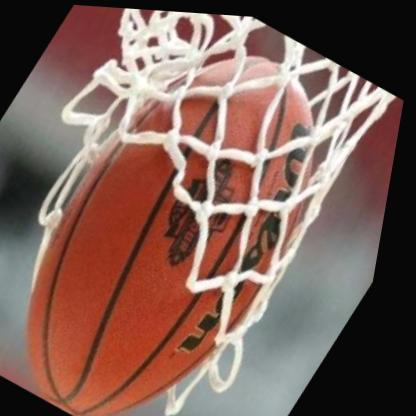basketball: (0, 1, 397, 416)
